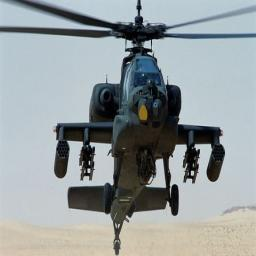helicopter: (3, 2, 256, 256)
